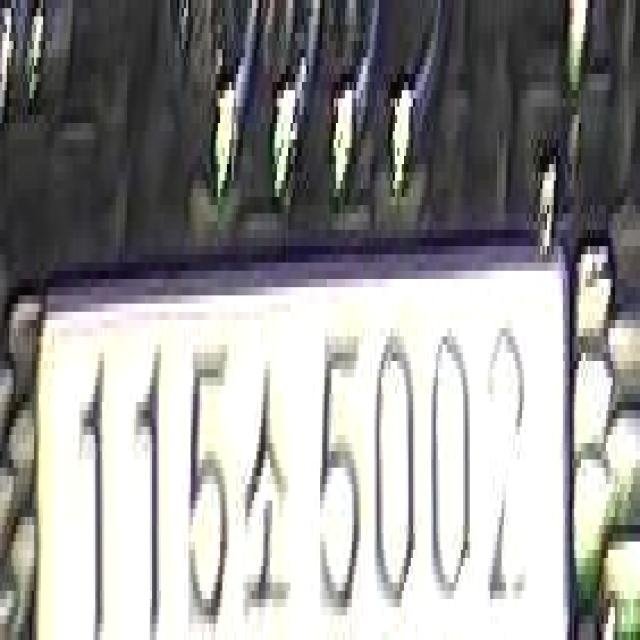illegal_plate: (23, 252, 580, 638)
